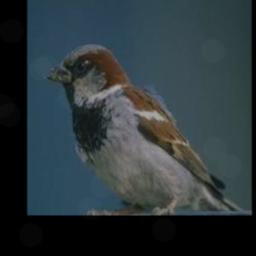Sparrow: (43, 43, 244, 214)
